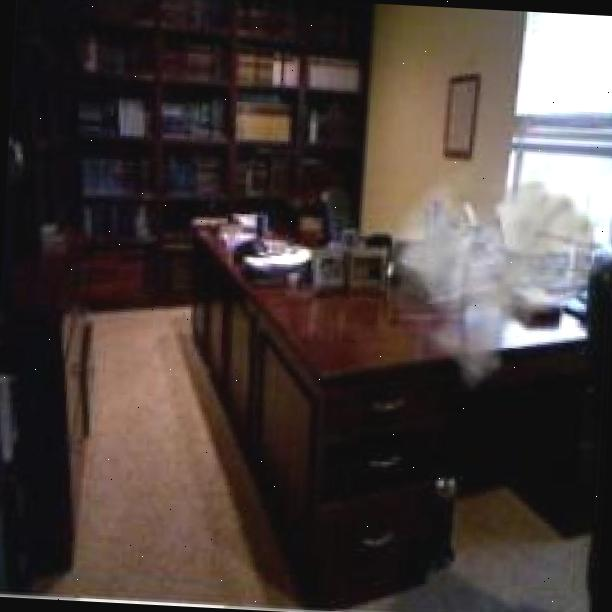smoke: (373, 149, 612, 401)
